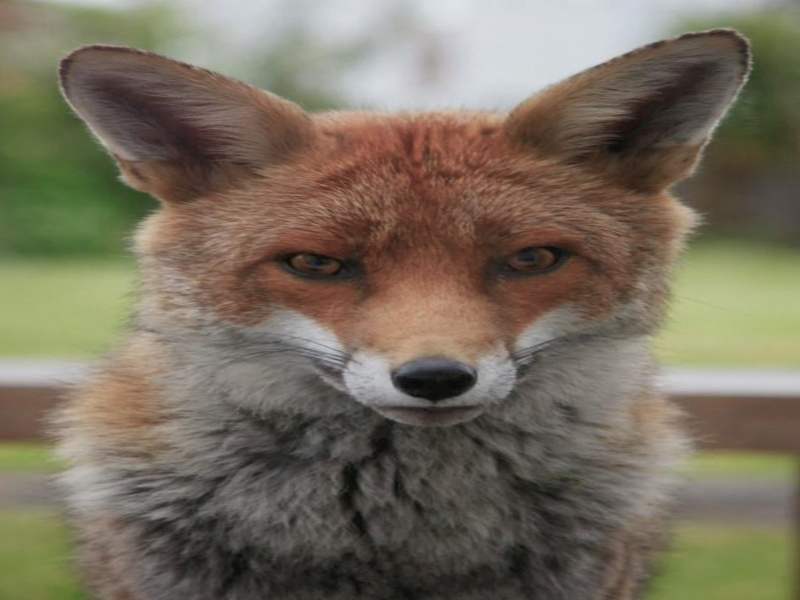fox: (55, 26, 750, 600)
